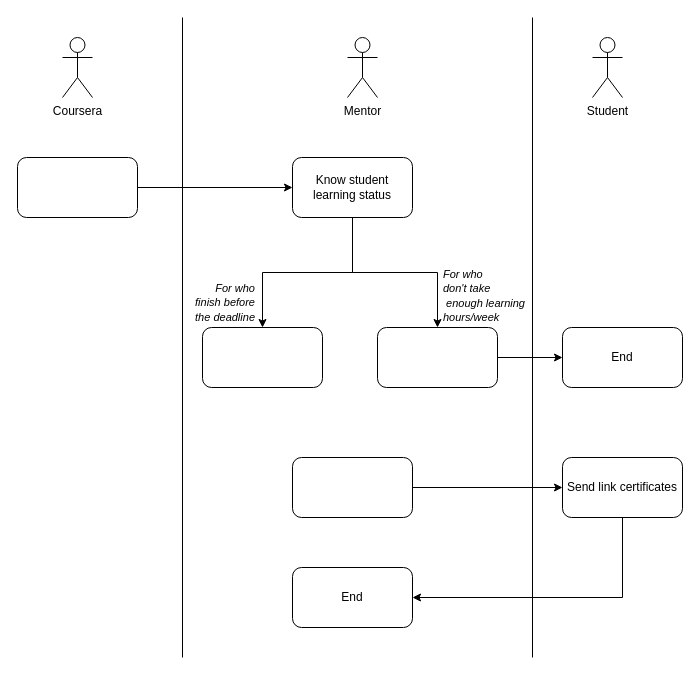
The diagram is 700 pixels wide and 676 high, and some of its shapes have lost their labels. Each missing label, with the centre of its shape:
Bonus points: (x=262, y=357)
Request students submit certificates: (x=352, y=487)
Send report: (x=77, y=187)
Send warning email: (x=437, y=357)
